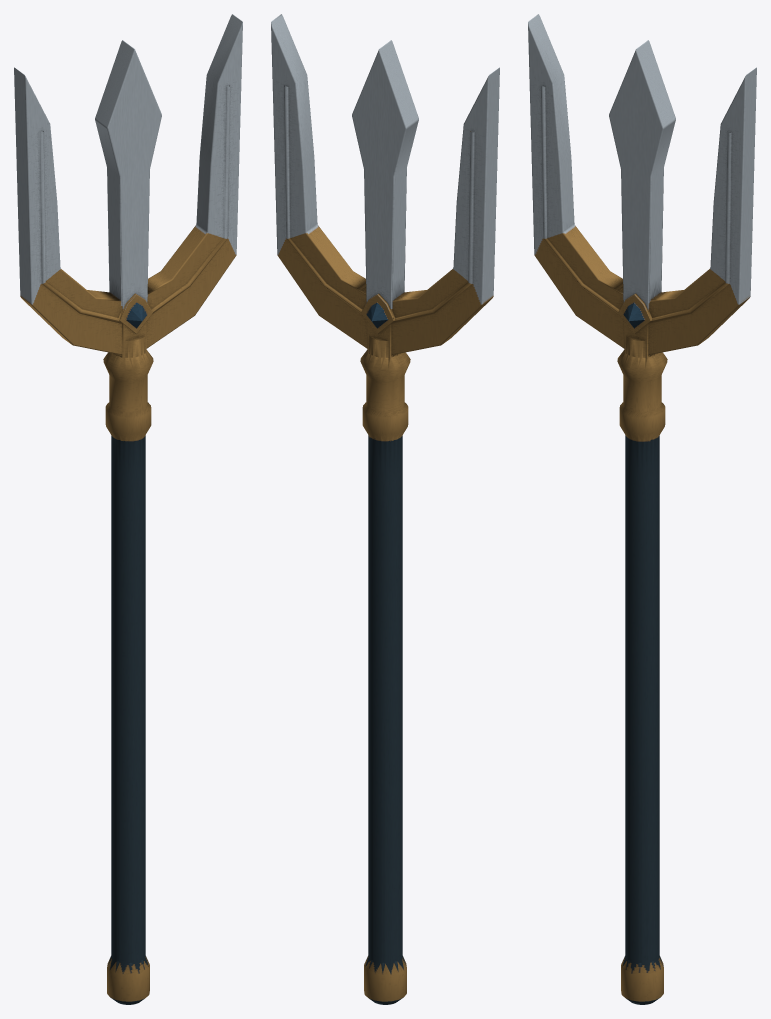
Rendered from trident-crafted.glb.
3 renders of one model, left to right at view 1: azimuth 30°, elevation 25°; view 2: azimuth 150°, elevation 25°; view 3: azimuth 330°, elevation 25°, orthographic.
Parts seen in each view (by area): view 1: trident-crafted; view 2: trident-crafted; view 3: trident-crafted.
Boxes of the visible parts, x1,y1,x2,y2 form: trident-crafted: (14, 14, 242, 1004); trident-crafted: (271, 14, 499, 1004); trident-crafted: (528, 14, 756, 1004).
Bounding box in the file's own units: 0.3399 × 1.42 × 0.074.
Materials: 1 (1 with a texture image).
